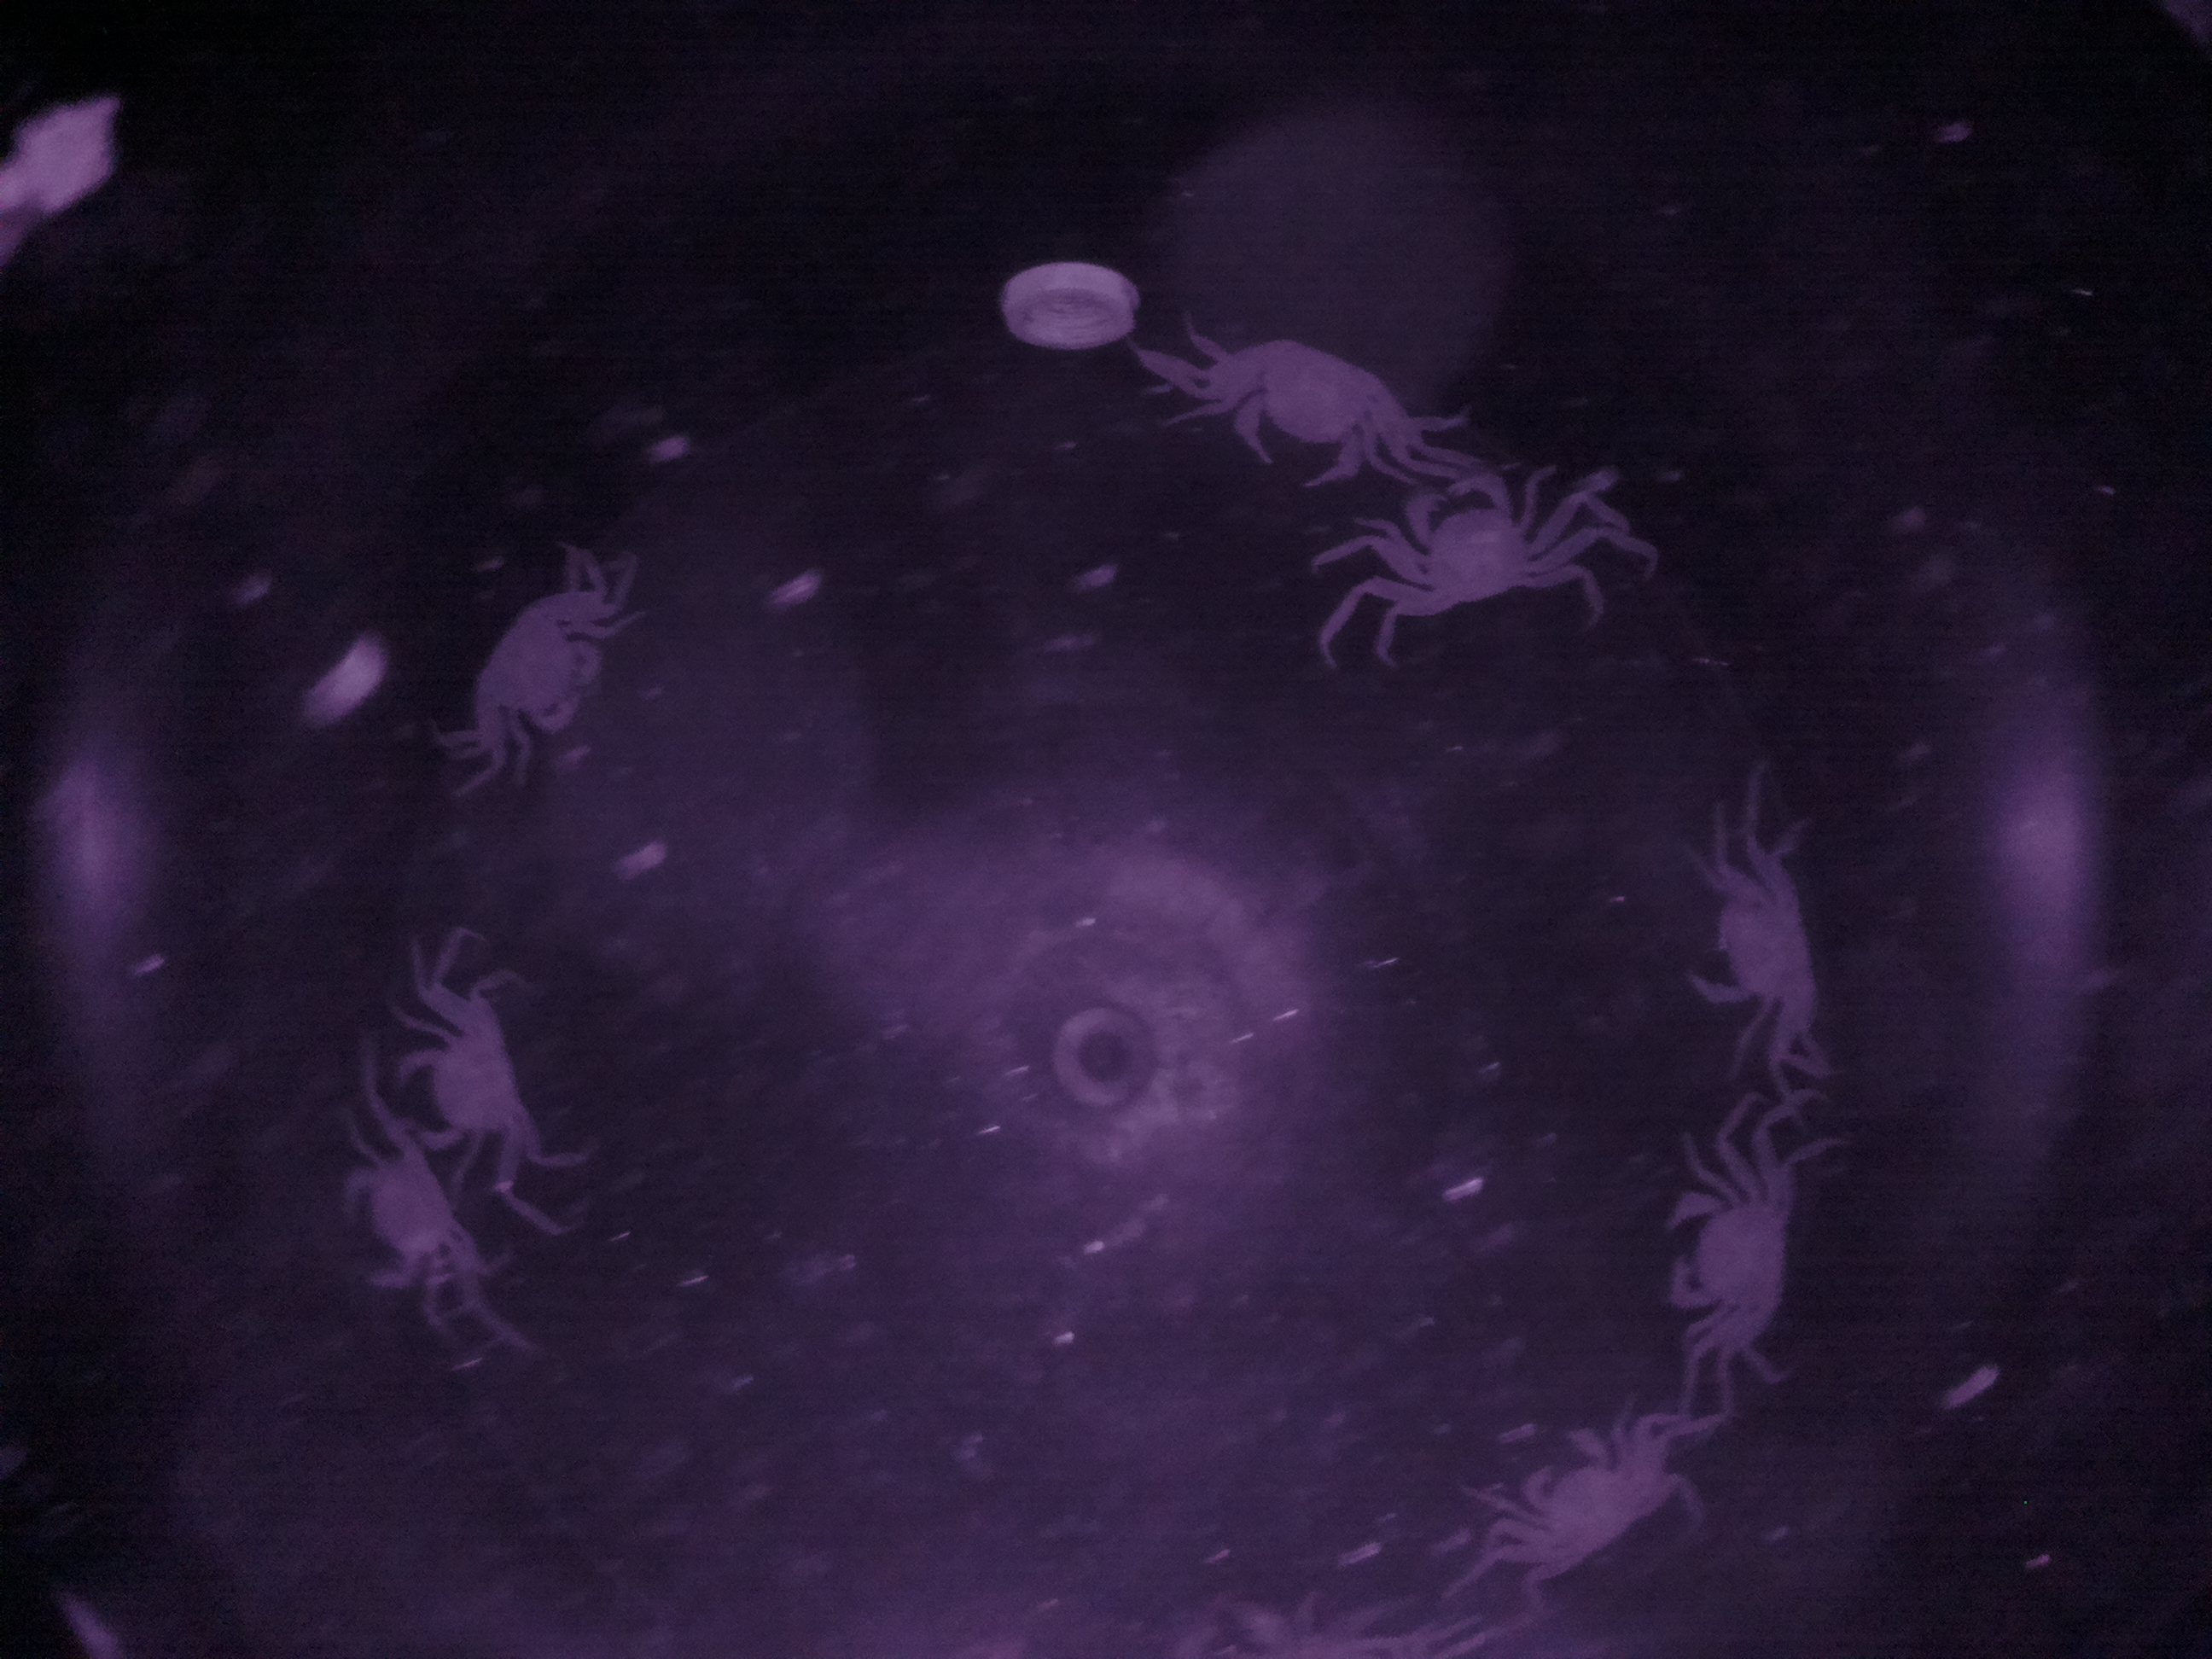Crab: (1191, 321, 1432, 507), (1366, 457, 1566, 629), (460, 573, 636, 762), (1655, 1168, 1822, 1363), (1496, 1398, 1658, 1589), (388, 1009, 563, 1178)
